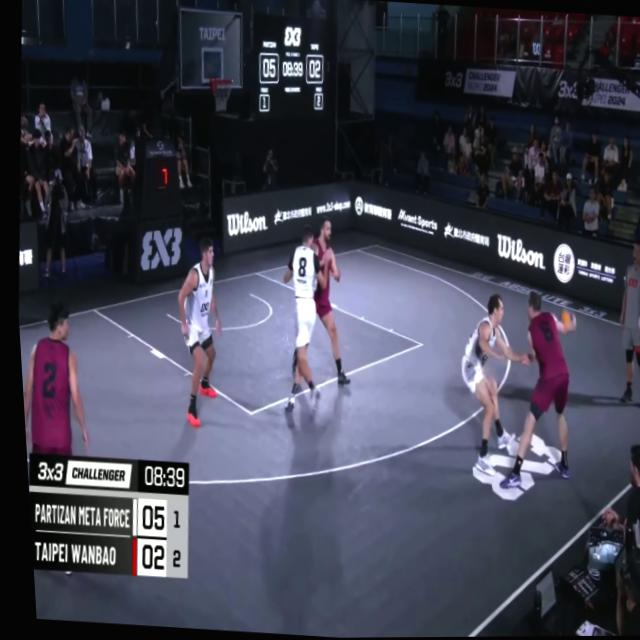ball: (552, 304, 575, 338), (328, 270, 337, 283)
hoop: (207, 73, 235, 118)
player: (14, 293, 103, 582), (480, 290, 580, 494), (445, 295, 530, 477), (277, 208, 357, 396), (165, 236, 229, 431), (266, 225, 330, 415)
